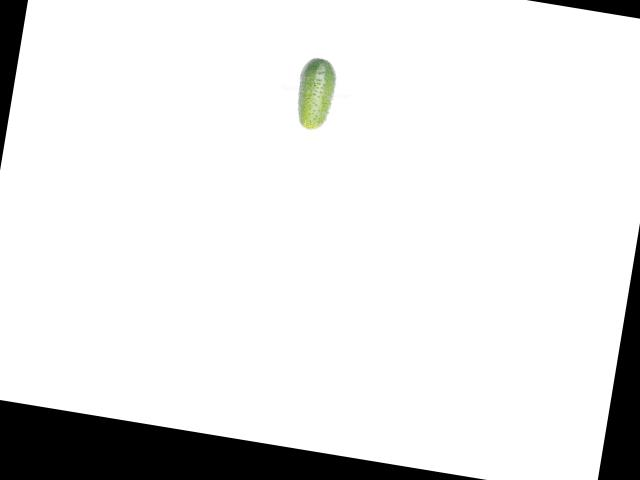cucumber: (292, 55, 340, 132)
